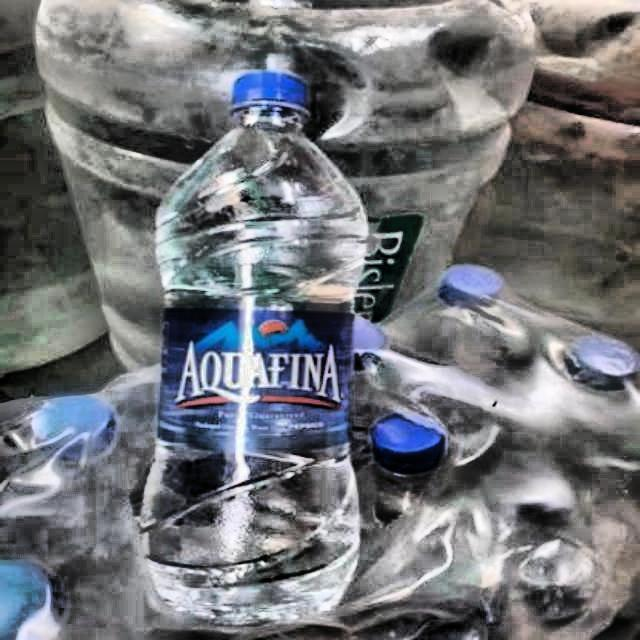Bottles: (133, 65, 364, 629)
